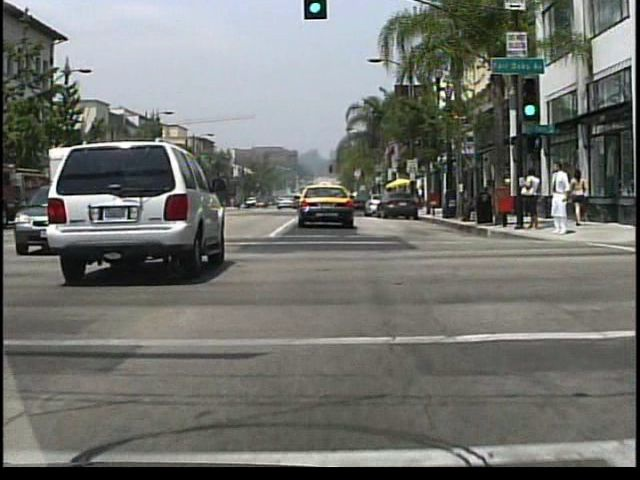person: (549, 161, 571, 236), (522, 165, 542, 234), (568, 168, 587, 227), (458, 189, 481, 224), (480, 179, 492, 221), (416, 186, 427, 213)
